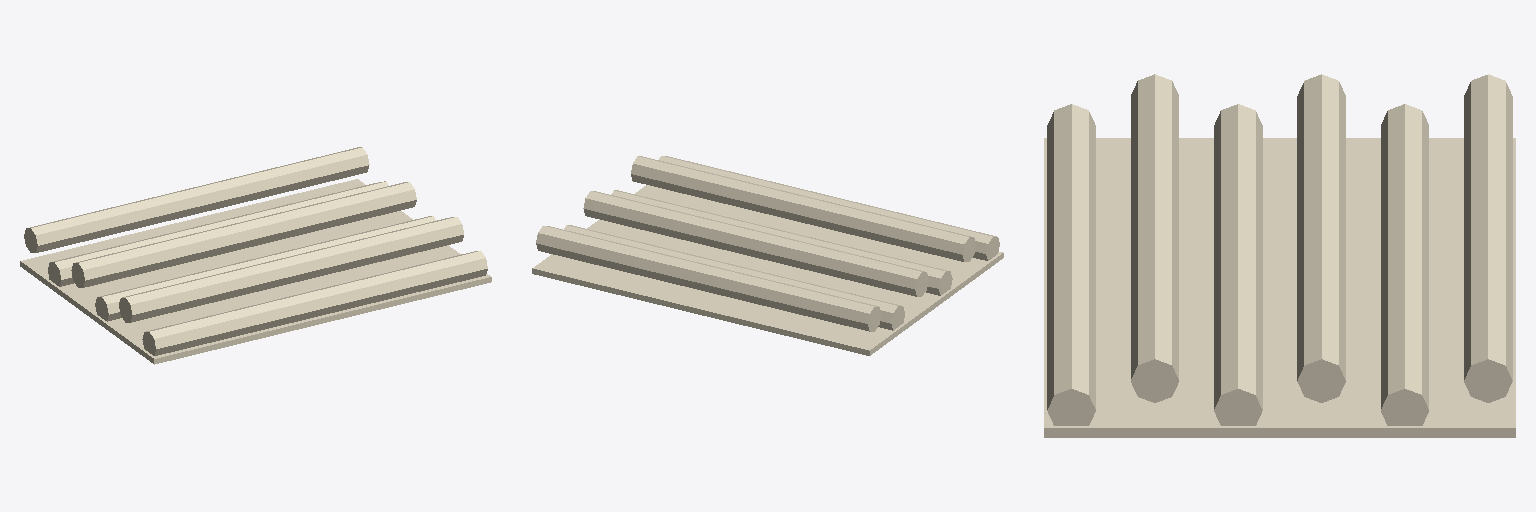
The robot description file, URDF, robot "nova_environment_object_0301":
<?xml version="1.0" encoding="utf-8"?>
<!-- Nova movable environment body for the bundled PyBullet launcher. SI metres/kg/radians. Loaded at its body origin; hinge/slider bodies use a fixed world_anchor base with one passive joint. Inertia is about COM. -->
<robot name="nova_environment_object_0301">
  <link name="body">
    <inertial>
      <origin xyz="0 0 0.008" rpy="0 0 0" />
      <mass value="0.024" />
      <inertia ixx="1.76862222e-05" iyy="3.6424e-05" izz="5.30862222e-05" ixy="0" ixz="0" iyz="0" />
    </inertial>
    <visual>
      <origin xyz="0 0 0" rpy="0 0 0" />
      <geometry>
        <mesh filename="object_0301.obj" />
      </geometry>
      <material name="surface">
        <color rgba="0.91 0.88 0.8 1" />
      </material>
    </visual>
    <collision>
      <origin xyz="0 0 0" rpy="0 0 0" />
      <geometry>
        <mesh filename="object_0301_collision_00.obj" />
      </geometry>
    </collision>
  </link>
</robot>

--- Render facts (derived) ---
Views: 3 orthographic renders of the robot side by side, from view 1: azimuth 30°, elevation 25°; view 2: azimuth 150°, elevation 25°; view 3: azimuth 270°, elevation 25°.
Robot: nova_environment_object_0301 — 1 links, 0 joints (none); root link body; default pose: every joint at zero.
Links seen in each view (by area): view 1: body; view 2: body; view 3: body.
Link boxes in pixels (<box>): body: <box>20,147,491,364</box>; body: <box>532,156,1003,355</box>; body: <box>1044,74,1515,437</box>.
Size in the robot's own frame: 0.126 by 0.0867 by 0.0155 metres.
1 mesh visuals loaded from 1 distinct referenced files (1 OBJ).
